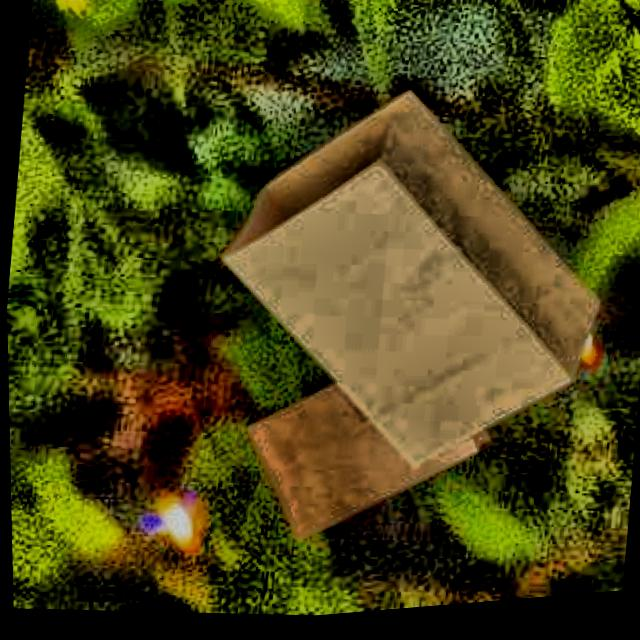Paper-bag: (207, 58, 620, 505), (211, 327, 498, 565)
